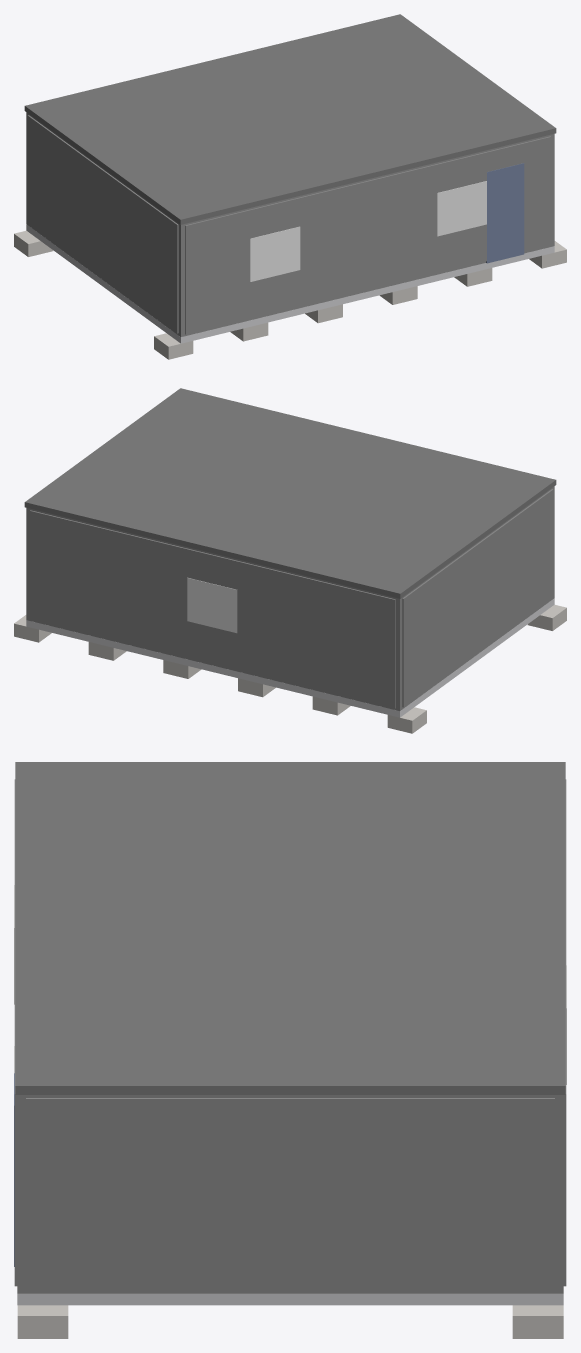
The model's file is Studio-30-Base-AntiqueWallGrey-LOD2.glb.
3 views of the same model, one above another, from view 1: azimuth 30°, elevation 25°; view 2: azimuth 150°, elevation 25°; view 3: azimuth 270°, elevation 25° (orthographic). The views are drawn at different scales.
Visible parts, largest first — view 1: RoofMain, ExteriorPanelsStandard, WindowsStandard, BaseFrame, FoundationBlocks, ExteriorShell, EntryDoor; view 2: RoofMain, ExteriorPanelsStandard, BaseFrame, ExteriorShell, FoundationBlocks, WindowsStandard; view 3: RoofMain, ExteriorPanelsStandard, BaseFrame, ExteriorShell, FoundationBlocks.
Boxes of the visible parts, box(x1,y1,x2,y2) form: RoofMain: box(24, 14, 556, 224); ExteriorPanelsStandard: box(27, 115, 550, 334); WindowsStandard: box(250, 181, 486, 281); BaseFrame: box(26, 224, 554, 343); FoundationBlocks: box(14, 230, 566, 359); ExteriorShell: box(26, 112, 554, 336); EntryDoor: box(486, 163, 524, 263); RoofMain: box(24, 388, 556, 598); ExteriorPanelsStandard: box(30, 489, 553, 708); BaseFrame: box(26, 598, 554, 717); ExteriorShell: box(26, 486, 554, 710); FoundationBlocks: box(14, 604, 566, 733); WindowsStandard: box(187, 577, 237, 633); RoofMain: box(15, 762, 565, 1094); ExteriorPanelsStandard: box(14, 779, 566, 1290); BaseFrame: box(17, 1293, 563, 1305); ExteriorShell: box(17, 1095, 563, 1293); FoundationBlocks: box(17, 1305, 563, 1338).
Bounding box in the file's own units: 9.6 × 3.17 × 6.53.
